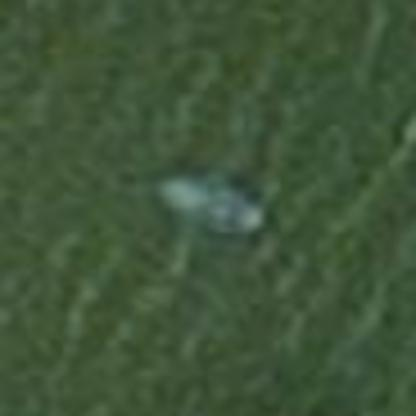ship: (145, 167, 273, 240)
